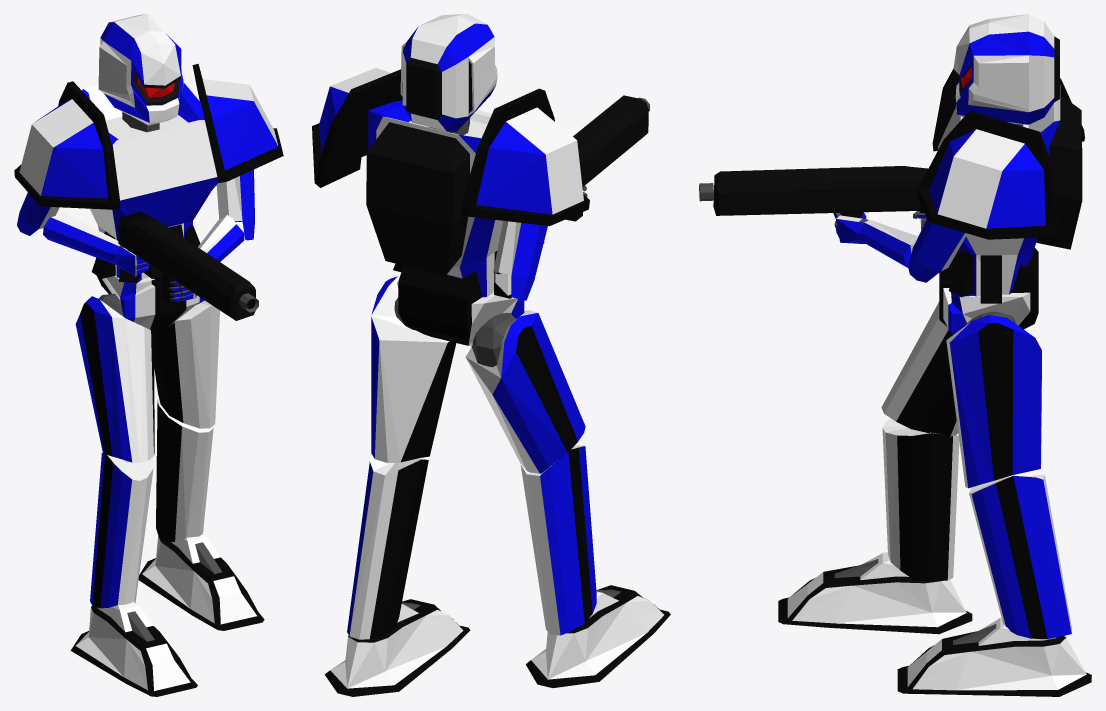
File: robots_000011.obj
The picture shows the model from 3 angles, left to right: view 1: azimuth 30°, elevation 25°; view 2: azimuth 150°, elevation 25°; view 3: azimuth 270°, elevation 25°; orthographic projection. The views are drawn at different scales.
Parts seen in each view (by area): view 1: Chest_plate_Cube.004, R_Thigh_Cube.005, Cube.002_Cube.059, Head_base_Cube.022, R_Shin_Cube.007, R_Foot.002_Cube.035, R_Foot_Cube, R_Thigh.002_Cube.027, Cube_Cube.001, R_Shin.002_Cube.029, Cube_Cube.021, Pelvis_Cube.006 (+5 smaller); view 2: Chest_plate_Cube.004, Cube.002_Cube.059, R_Thigh.002_Cube.027, R_Thigh_Cube.005, R_Shin_Cube.007, R_Shin.002_Cube.029, Head_base_Cube.022, R_Foot_Cube, R_Foot.002_Cube.035, Pelvis_Cube.006, Cube_Cube.021, Cube_Cube.001 (+2 smaller); view 3: Cube_Cube.021, R_Thigh.002_Cube.027, R_Shin.002_Cube.029, R_Shin_Cube.007, R_Foot.002_Cube.035, R_Foot_Cube, Head_base_Cube.022, Cube_Cube.001, Chest_plate_Cube.004, R_Thigh_Cube.005, Pelvis_Cube.006, L_Arm_Cube.014 (+3 smaller).
Boxes of the visible parts, x1,y1,x2,y2 form: Chest_plate_Cube.004: (82, 83, 218, 283); R_Thigh_Cube.005: (75, 296, 154, 462); Cube.002_Cube.059: (14, 81, 120, 209); Head_base_Cube.022: (98, 14, 183, 125); R_Shin_Cube.007: (90, 453, 153, 608); R_Foot.002_Cube.035: (138, 534, 264, 630); R_Foot_Cube: (70, 602, 197, 696); R_Thigh.002_Cube.027: (152, 300, 219, 428); Cube_Cube.001: (118, 212, 258, 320); R_Shin.002_Cube.029: (156, 399, 213, 542); Cube_Cube.021: (192, 63, 283, 182); Pelvis_Cube.006: (97, 275, 204, 330); Chest_plate_Cube.004: (366, 100, 511, 298); Cube.002_Cube.059: (460, 88, 589, 226); R_Thigh.002_Cube.027: (371, 276, 456, 463); R_Thigh_Cube.005: (465, 310, 585, 473); R_Shin_Cube.007: (520, 445, 596, 635); R_Shin.002_Cube.029: (347, 454, 428, 639); Head_base_Cube.022: (400, 14, 497, 132); R_Foot_Cube: (526, 585, 670, 687); R_Foot.002_Cube.035: (324, 599, 470, 696); Pelvis_Cube.006: (397, 265, 524, 345); Cube_Cube.021: (312, 68, 402, 187); Cube_Cube.001: (565, 95, 649, 221); Cube_Cube.021: (917, 111, 1058, 239); R_Thigh.002_Cube.027: (946, 314, 1041, 488); R_Shin.002_Cube.029: (969, 469, 1071, 638); R_Shin_Cube.007: (882, 418, 959, 581); R_Foot.002_Cube.035: (897, 617, 1091, 696); R_Foot_Cube: (778, 552, 972, 634); Head_base_Cube.022: (953, 14, 1059, 124); Cube_Cube.001: (699, 166, 927, 219); Chest_plate_Cube.004: (937, 85, 1082, 303); R_Thigh_Cube.005: (881, 301, 1025, 437); Pelvis_Cube.006: (939, 248, 1038, 334); L_Arm_Cube.014: (908, 218, 967, 282).
Bounding box in the file's own units: 1.32 × 3.03 × 1.71.
